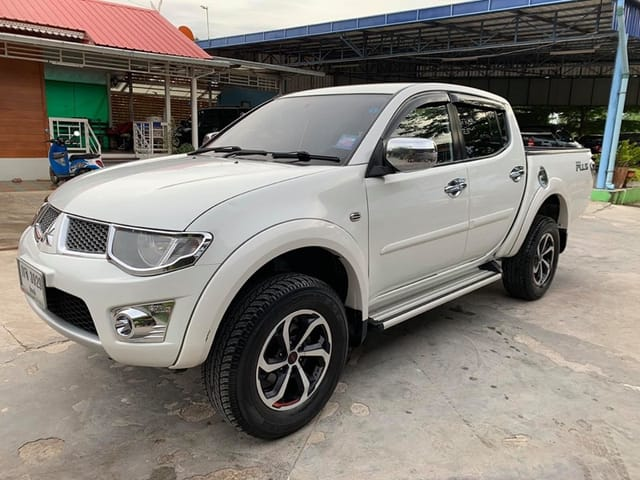pickup: (15, 81, 597, 440)
